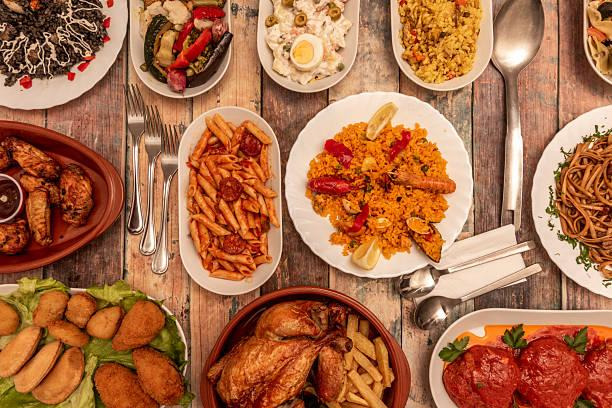Braised Crucian Carp: (284, 91, 469, 277), (202, 284, 411, 408), (2, 284, 187, 407), (0, 117, 128, 270), (176, 105, 280, 290), (430, 308, 612, 408), (126, 0, 236, 98), (255, 0, 363, 93), (386, 0, 494, 92)
